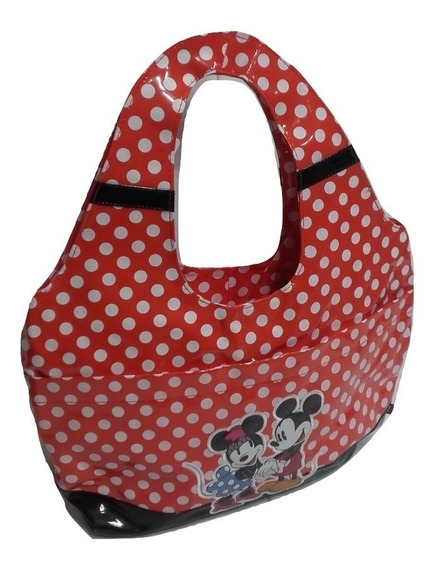cartera: (19, 29, 415, 541)
